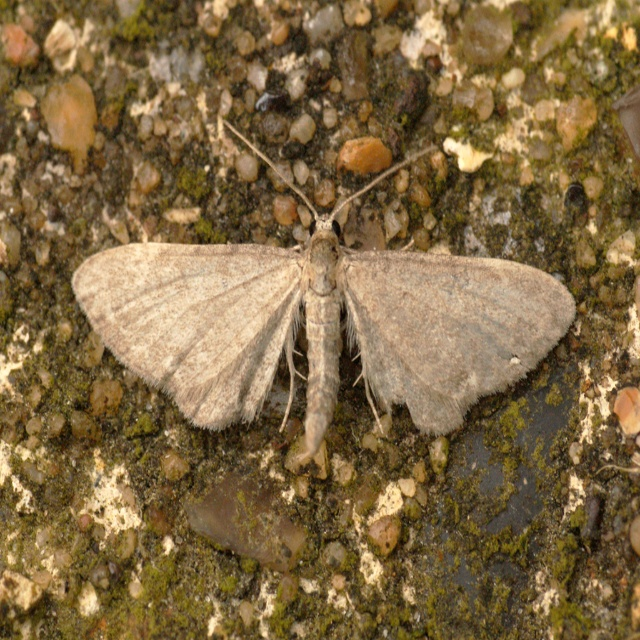Butterfly: (101, 126, 567, 465)
